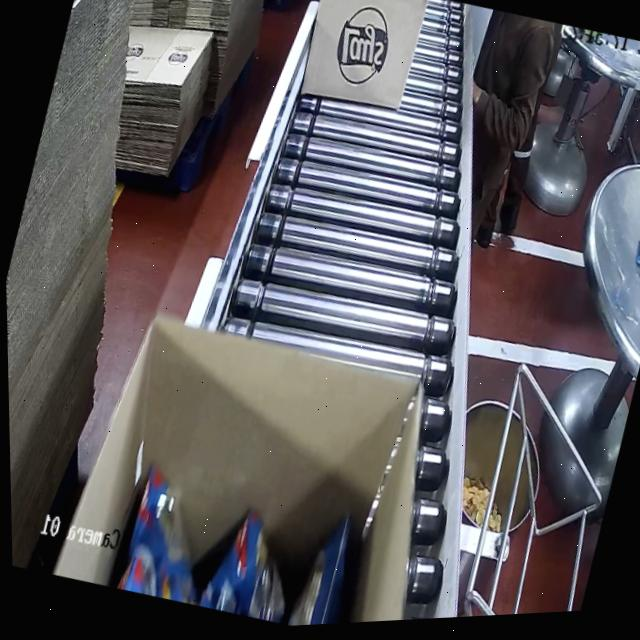PAPRIKA: (110, 456, 365, 635)
